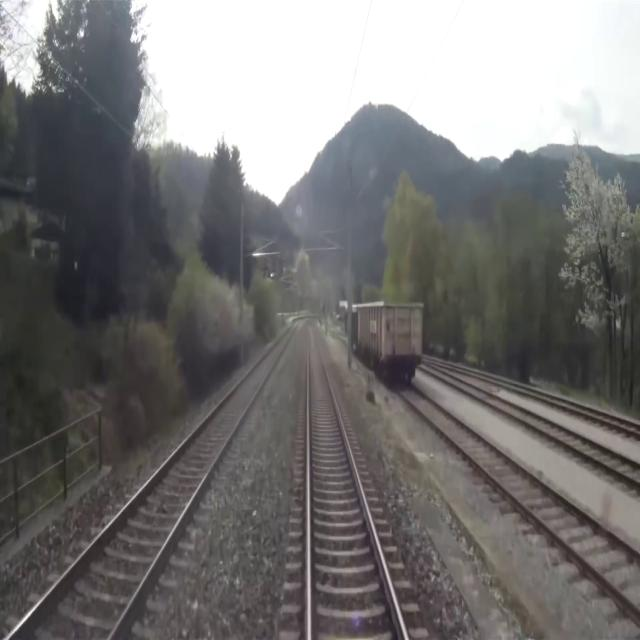rail-track: (10, 318, 308, 639), (401, 387, 640, 604), (309, 321, 404, 639), (453, 380, 640, 478)
